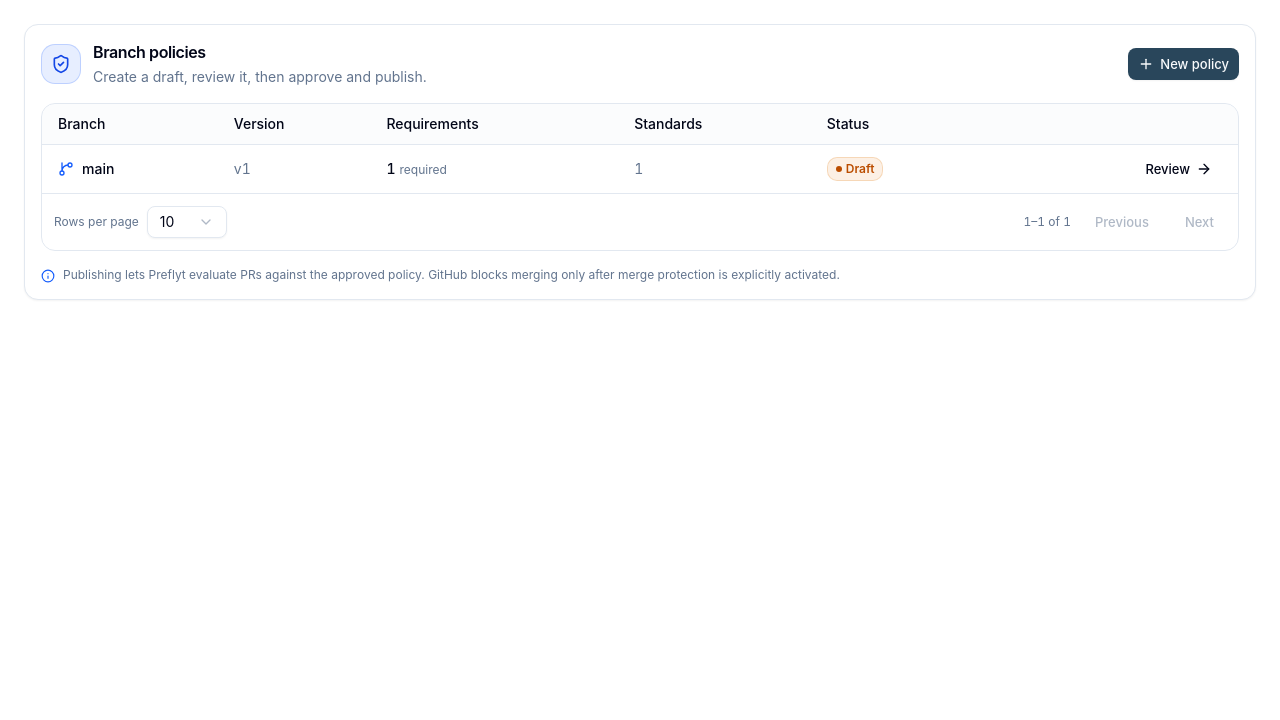
blocks approval of a self-authored draft and keeps publication separate
The image size is (1280, 720).
Click the button with aria-label "Review main version 1" at (1179, 168), box [1135,152,1222,184]
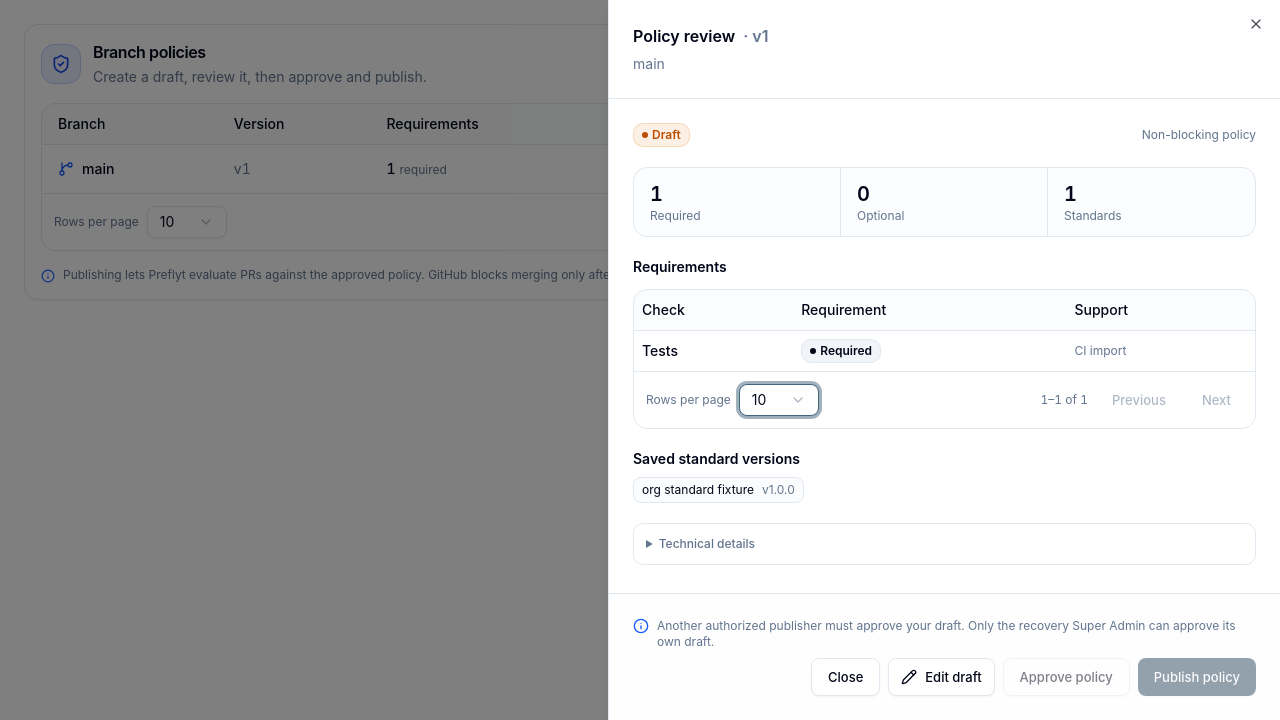
Check: the button "Approve policy" is disabled, box [1003,658,1130,696]
Check: the button "Publish policy" is disabled, box [1138,658,1256,696]
Check: the text "Another authorized publisher" is shown, box [657,618,1236,649]
